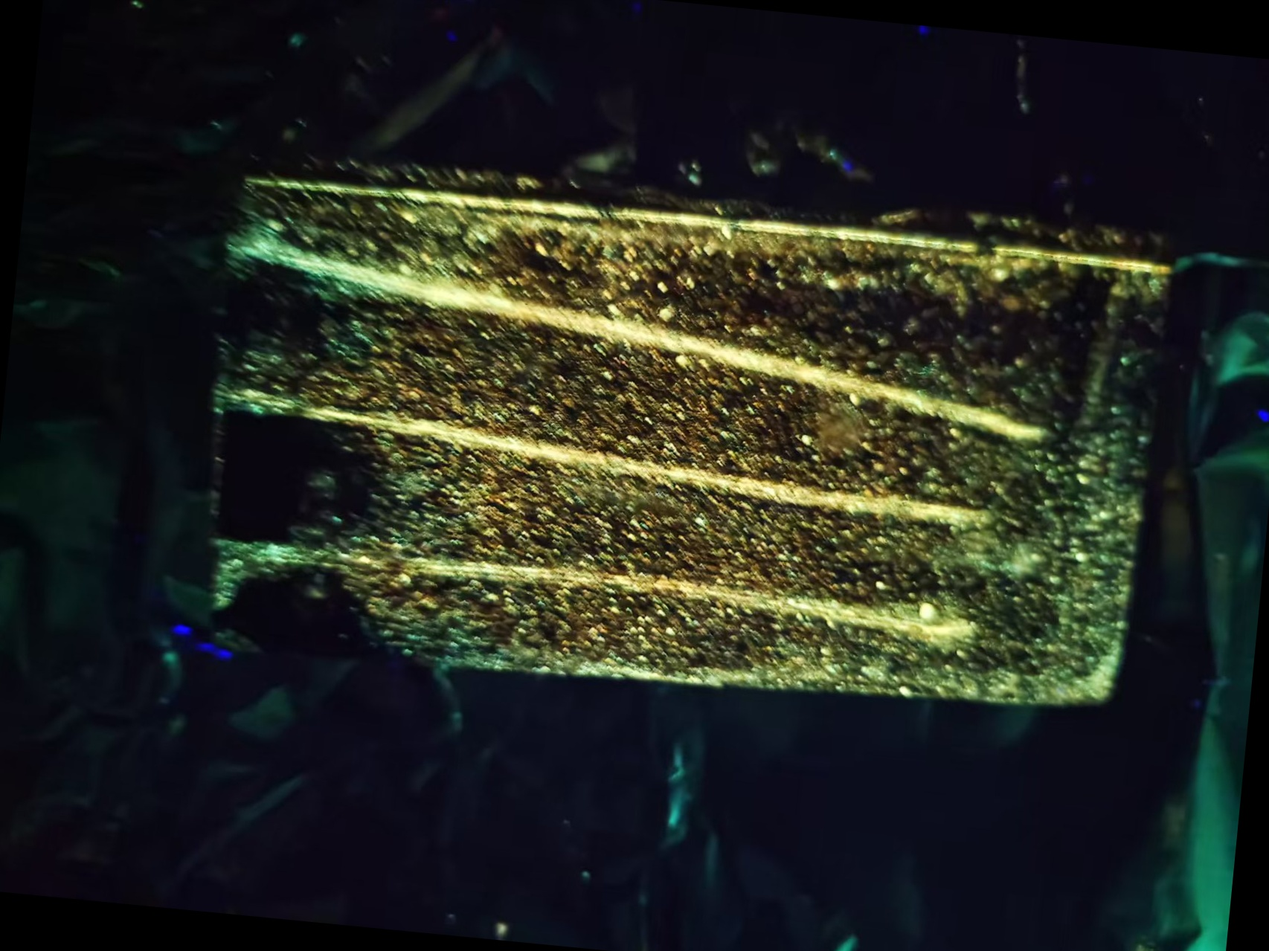Fissure: (222, 220, 1057, 456), (202, 372, 1019, 556), (204, 524, 988, 658)
